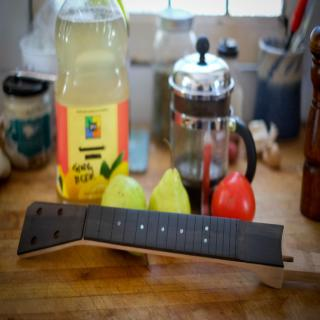tomato: (209, 174, 257, 224)
